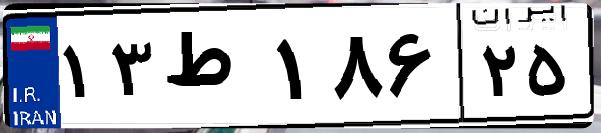1: (270, 28, 330, 110), (57, 26, 110, 100)
2: (475, 38, 525, 113)
3: (110, 28, 158, 98)
5: (525, 38, 570, 115)
6: (385, 28, 445, 110)
8: (330, 28, 385, 110)
ط: (158, 20, 270, 120)
